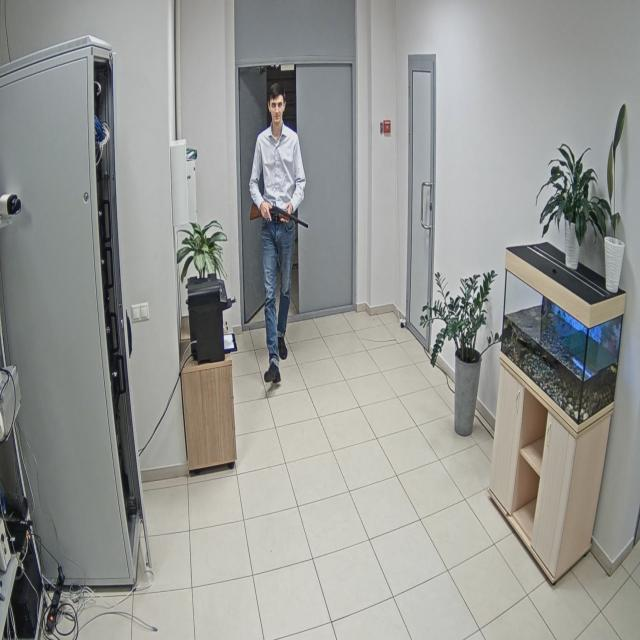-Gun: (250, 202, 308, 228)
